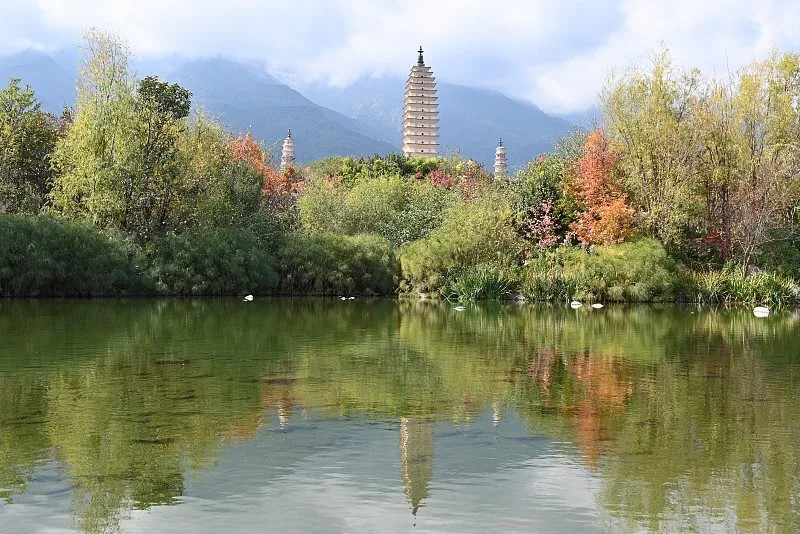ThreePagoda: (402, 45, 440, 160)
